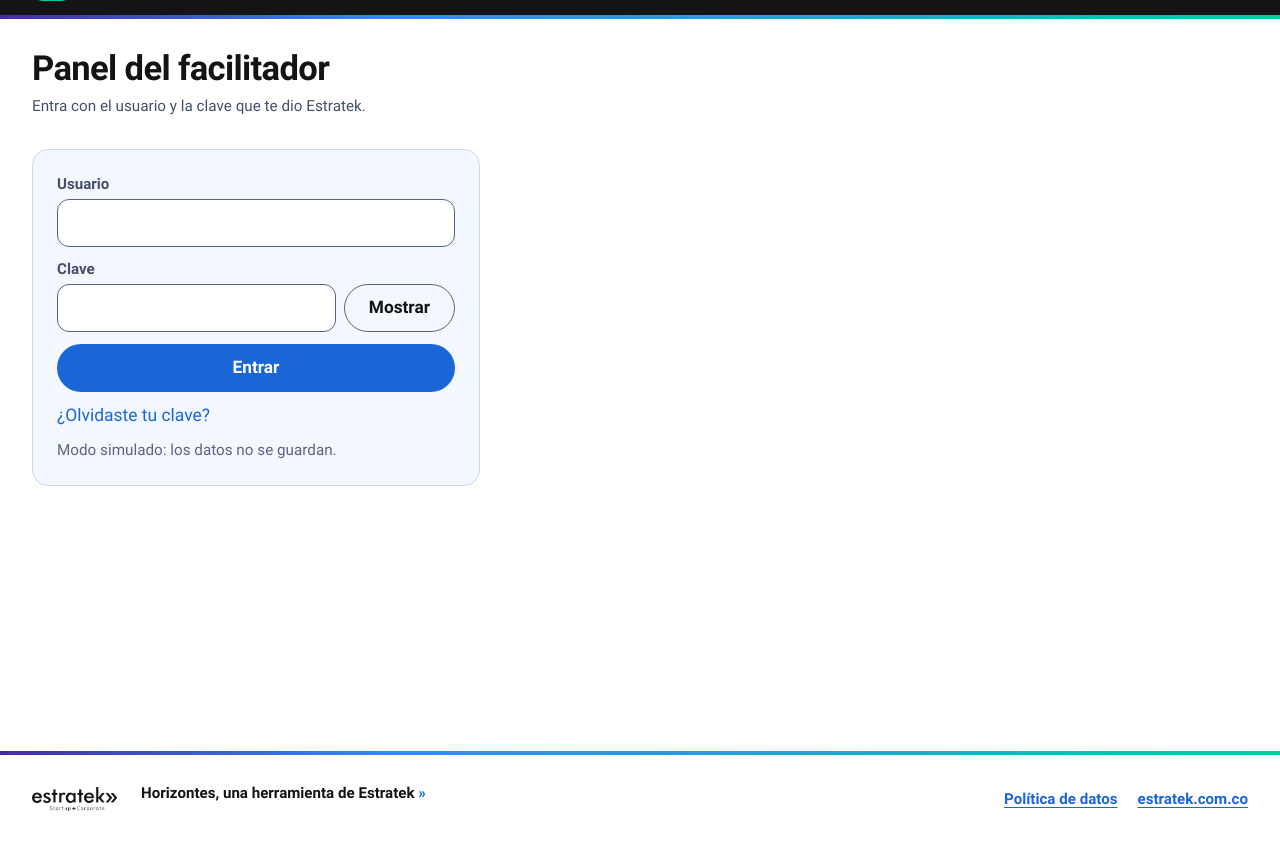
it: teclas del tablero en Sala en vivo › Sala en vivo las muestra en su lista
This screenshot has width=1280, height=847.
Type "paola" into the field labelled "Usuario" at (256, 223), box [57,199,455,247]
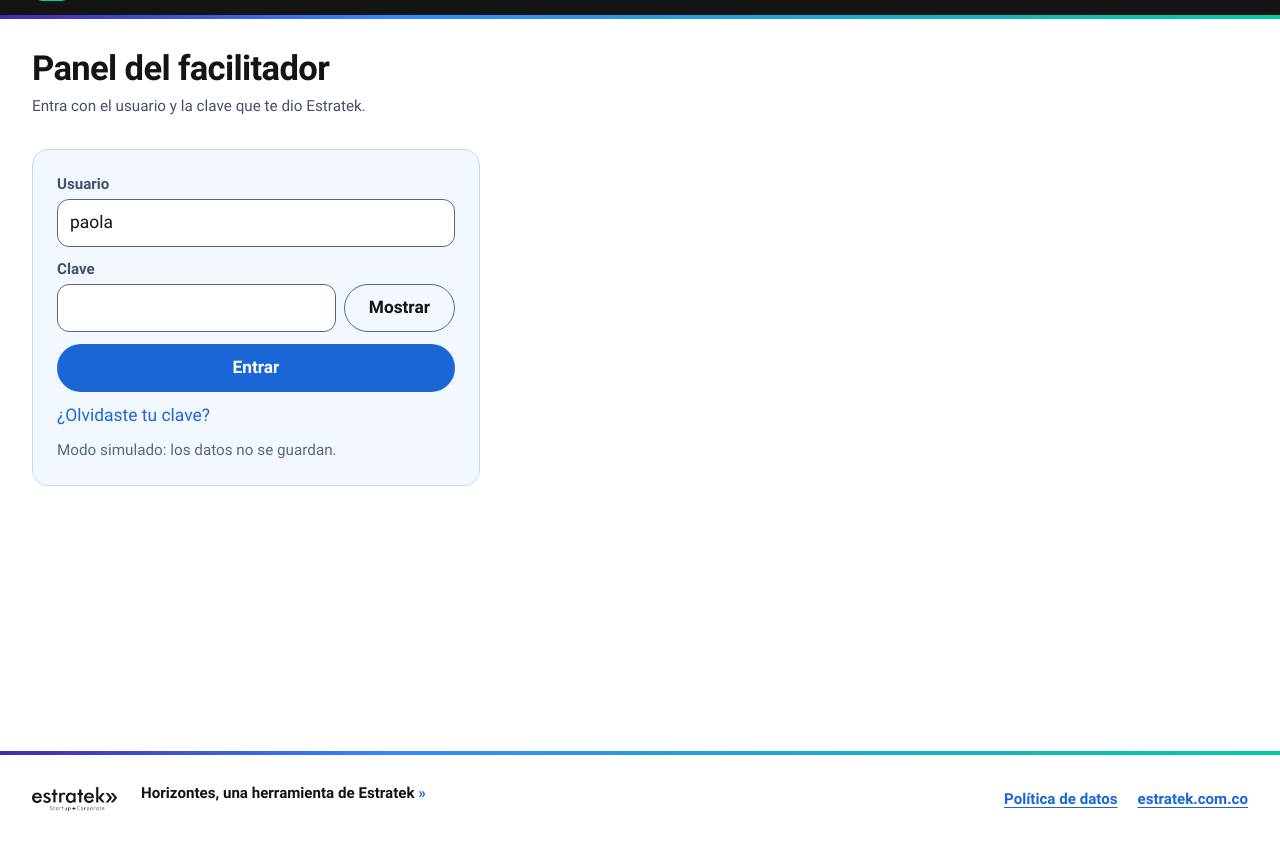
Type "demo1234" into the password field labelled "Clave" at (196, 308), box [57,284,336,332]
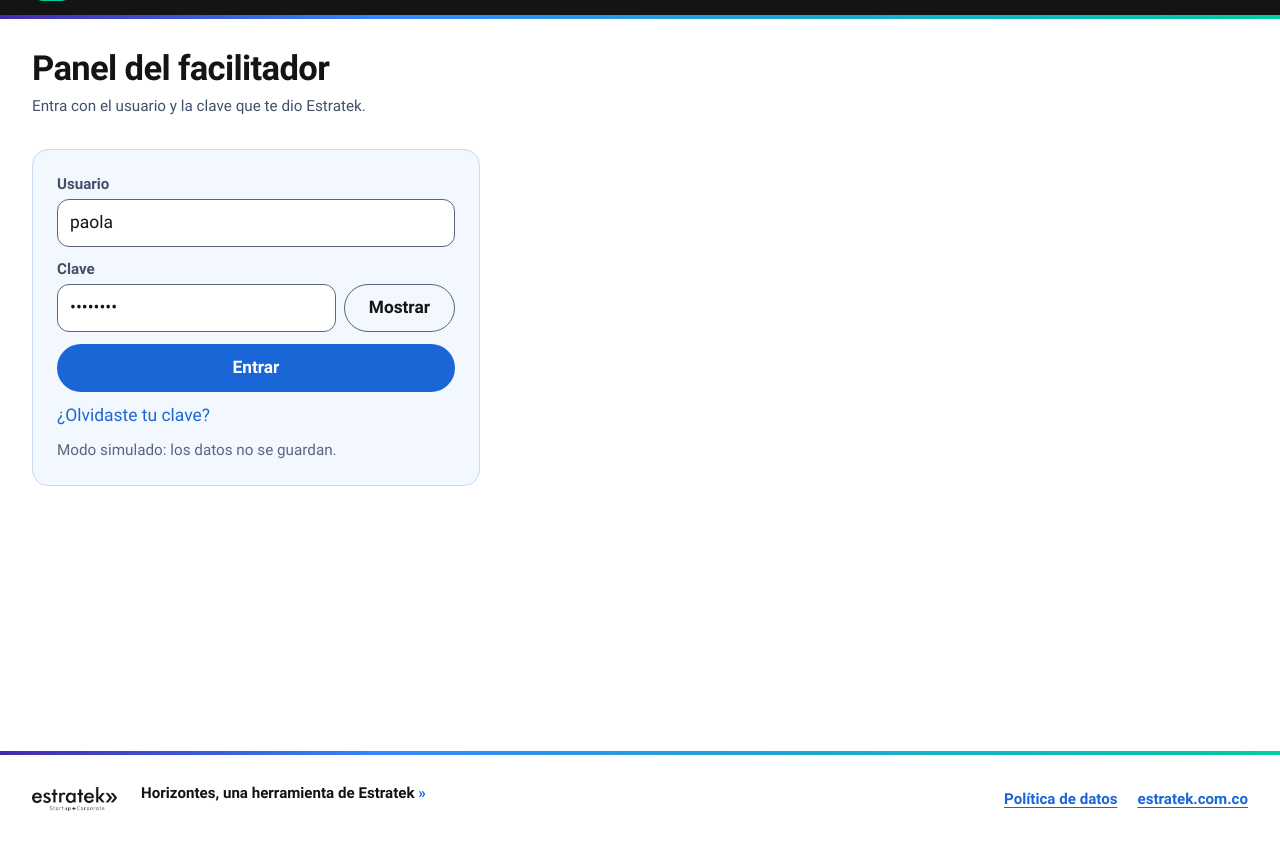
Click the button "Entrar" at (256, 368), box [57,344,455,392]
(page scrolled)
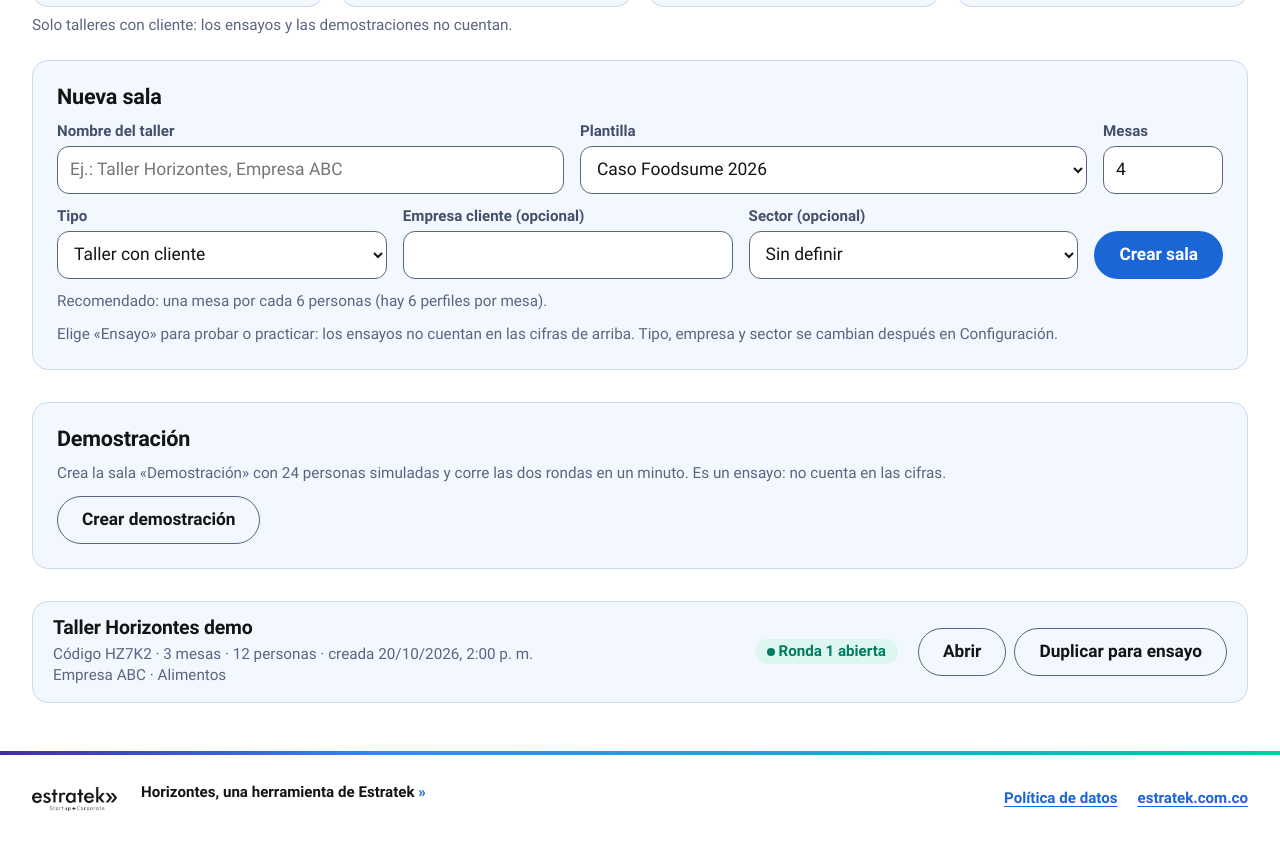
Click the link "Abrir" at (962, 652), box [918,628,1006,676]
(page scrolled)
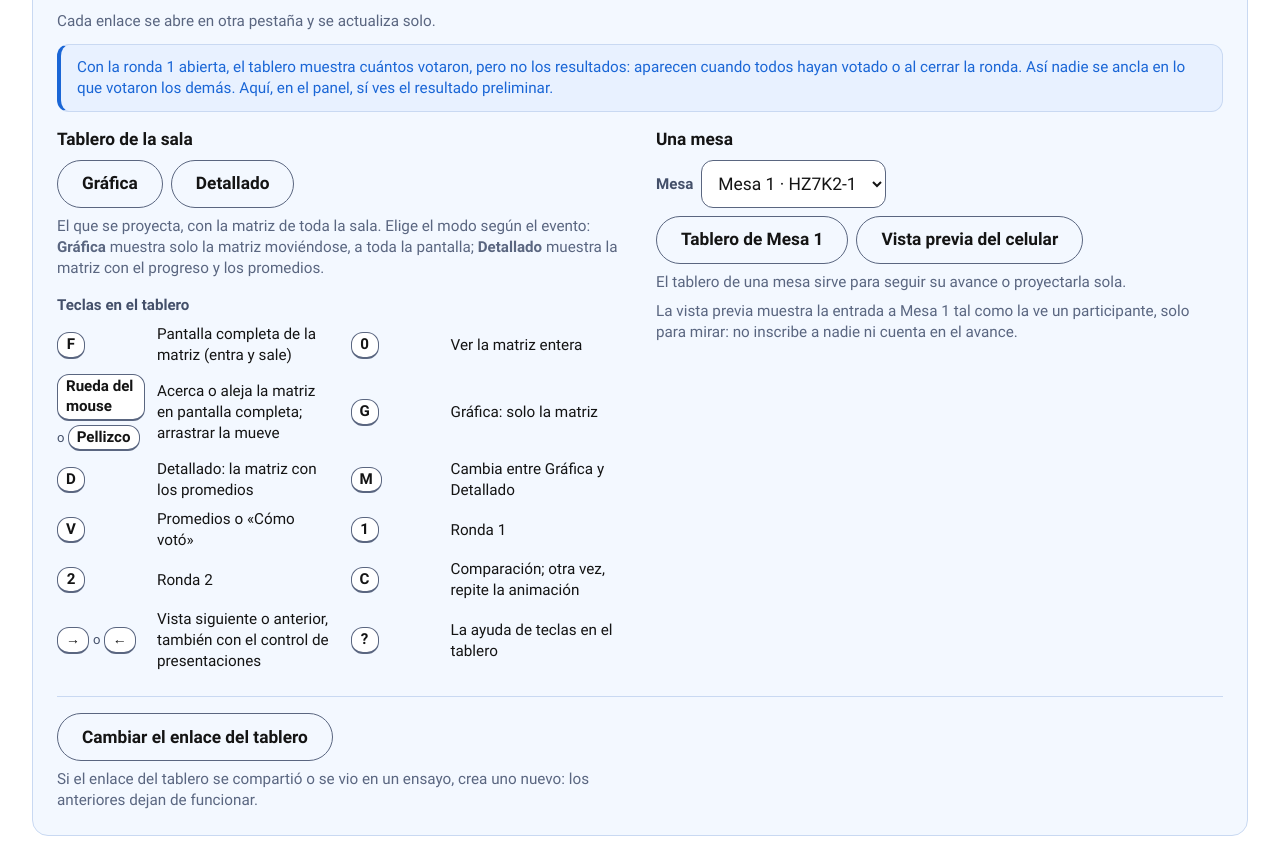
Expected: the text "Ver la matriz entera" is shown, [450,336,582,354]
Expected: the text "Pantalla completa de la matriz (entra y sale)" is shown, [157,324,330,366]
Expected: the text "Rueda del mouse" is shown, [57,374,145,421]
